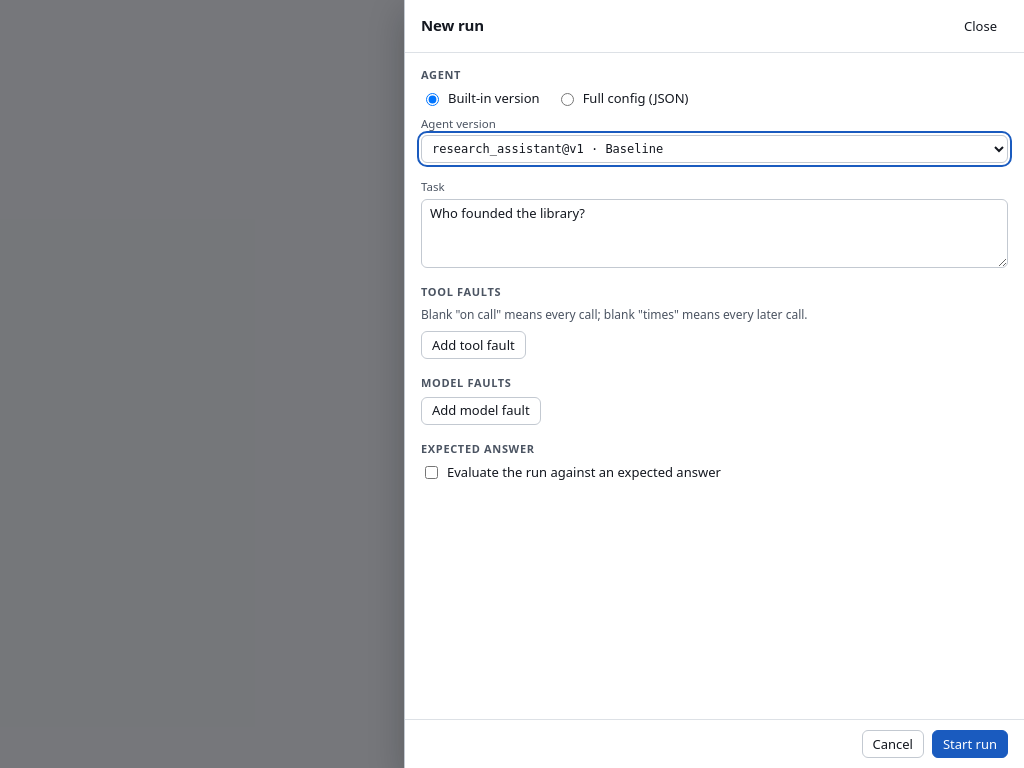
it: NewRunDrawer › reports a run that failed after its drawer was closed
Submit the form, box 421,67 -> 1008,482
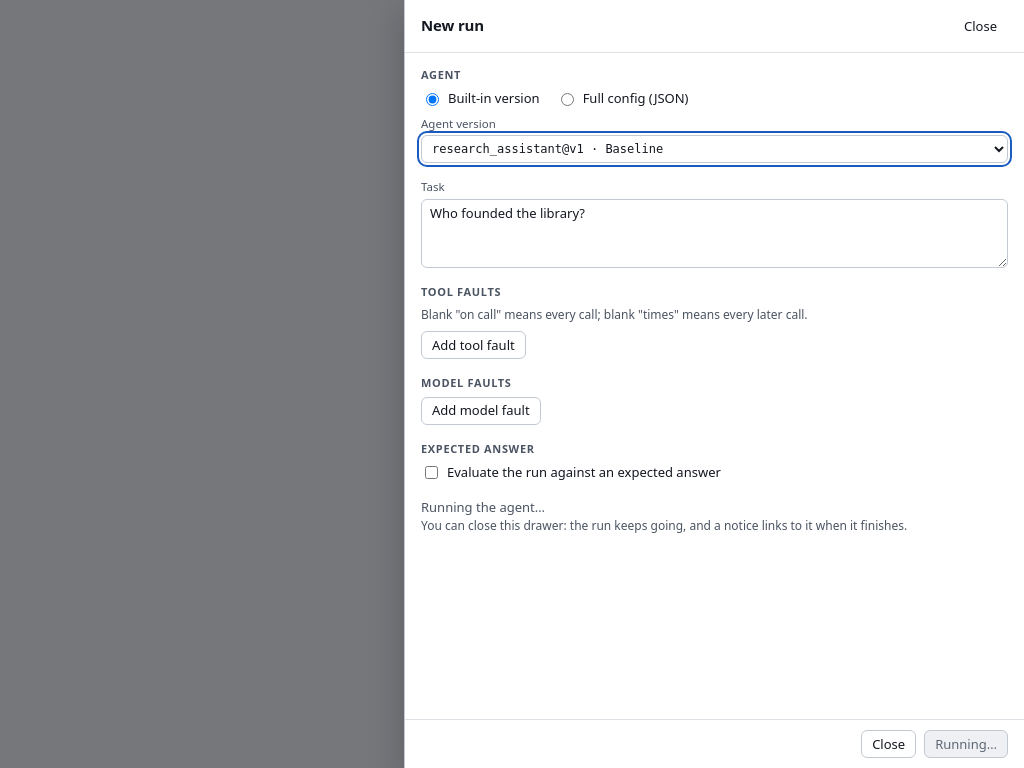
Click the 2nd button "Close".
click(889, 744)  # box 861,730 -> 916,758
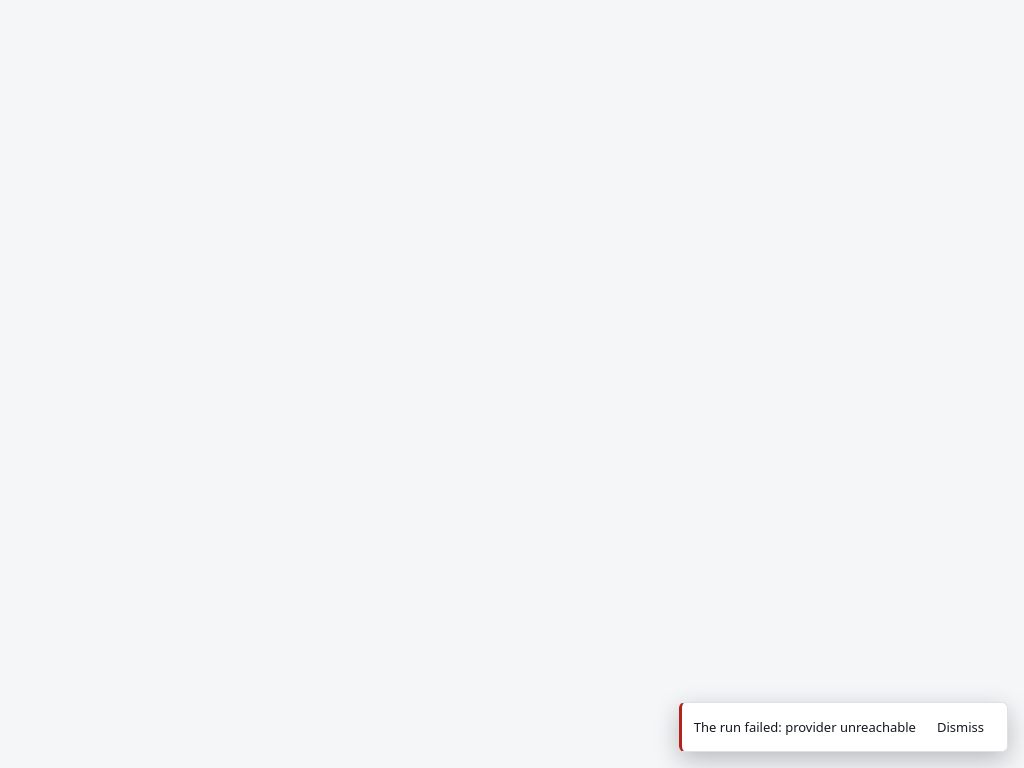
Result: the element with class "run-notice" shows "The run failed: provider unreachable" at 694,718 -> 916,736
